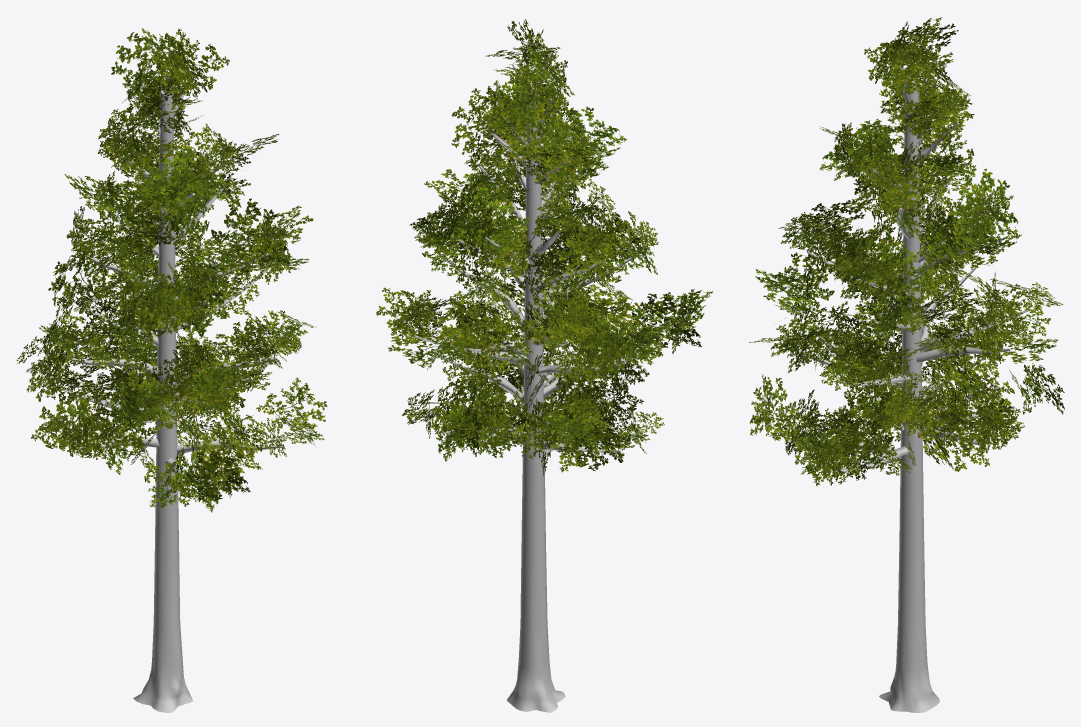
The model's file is Red_Alder_Model_0.obj.
The picture shows the model from 3 angles, left to right: view 1: azimuth 30°, elevation 25°; view 2: azimuth 150°, elevation 25°; view 3: azimuth 270°, elevation 25°; orthographic projection. The views are drawn at different scales.
Visible parts, largest first — view 1: Foliage__leafcard, Bark; view 2: Foliage__leafcard, Bark; view 3: Foliage__leafcard, Bark.
Boxes of the visible parts, x1,y1,x2,y2 form: Foliage__leafcard: (16,28,327,512); Bark: (56,69,283,712); Foliage__leafcard: (376,19,712,475); Bark: (414,52,662,712); Foliage__leafcard: (749,17,1064,485); Bark: (794,50,1028,712).
Bounding box in the file's own units: 7.47 × 17.5 × 7.37.
